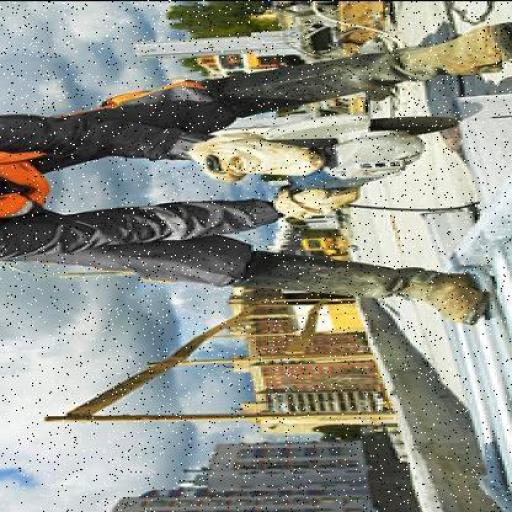safety_shoe: (234, 25, 512, 112), (233, 261, 487, 315)
